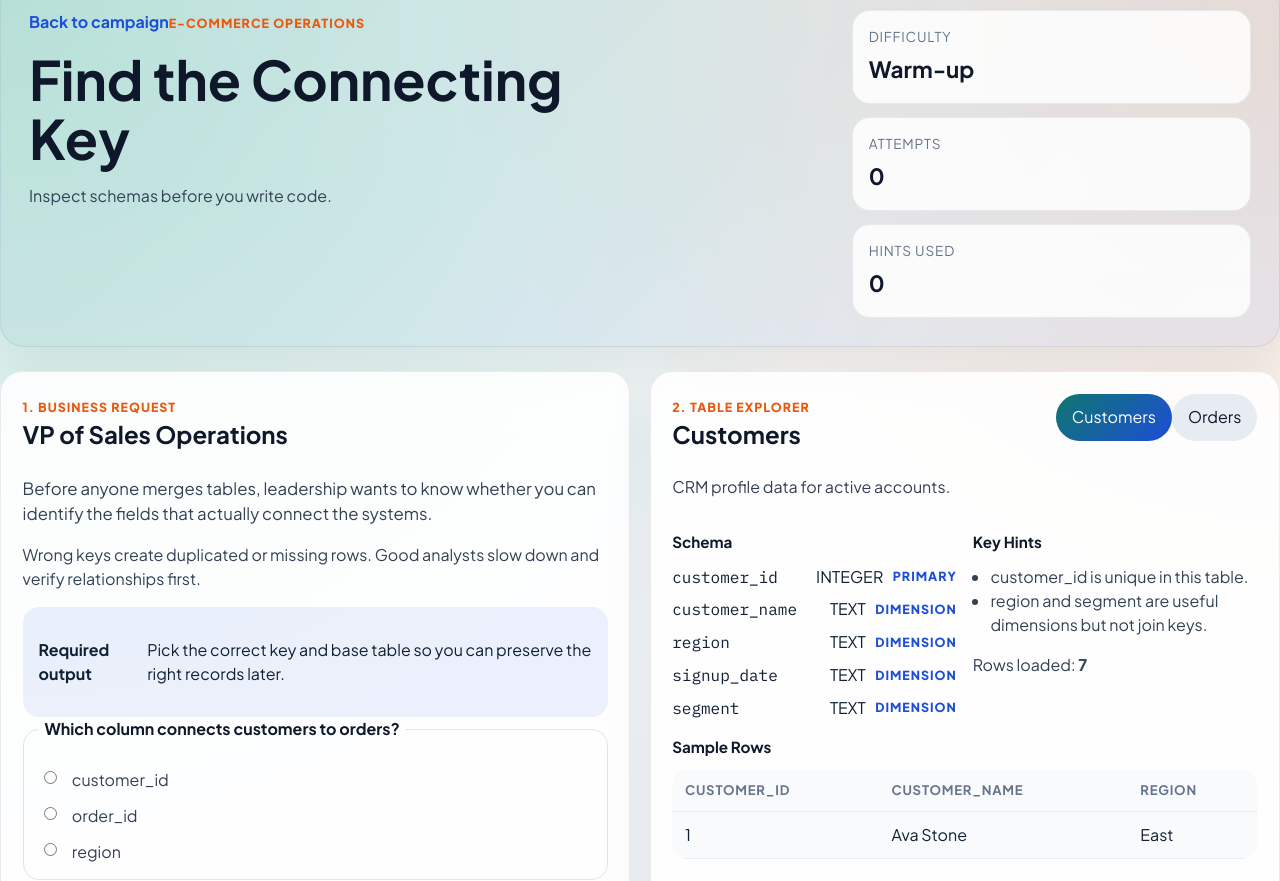
Test case: MissionPage › grades a no-code mission inside the analyst workspace
The width and height of the screenshot is (1280, 881).
Click the radio button labelled "customer_id" at (50, 778), box left=44, top=771, right=57, bottom=784
(page scrolled)
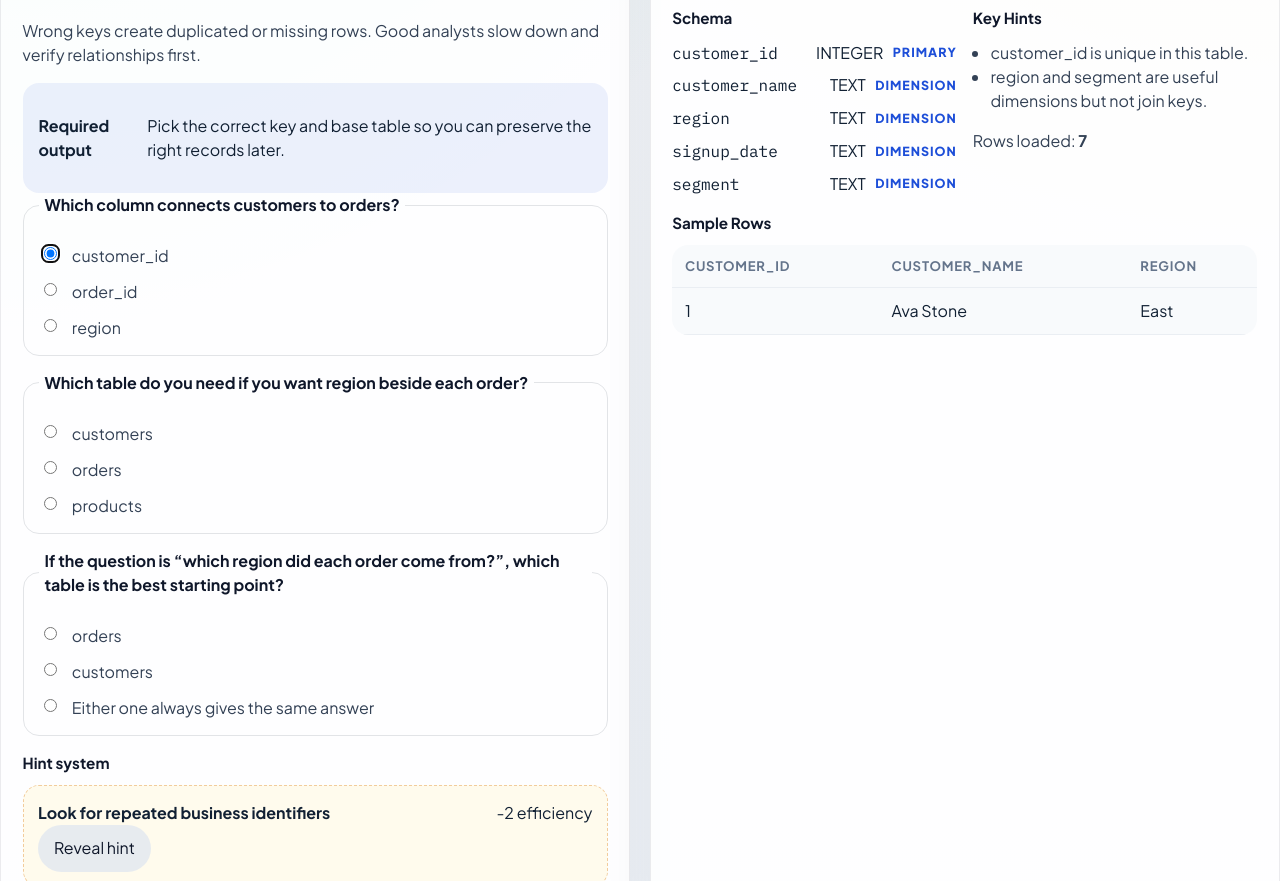
Click the 1st radio button labelled "customers" at (50, 432), box left=44, top=425, right=57, bottom=438
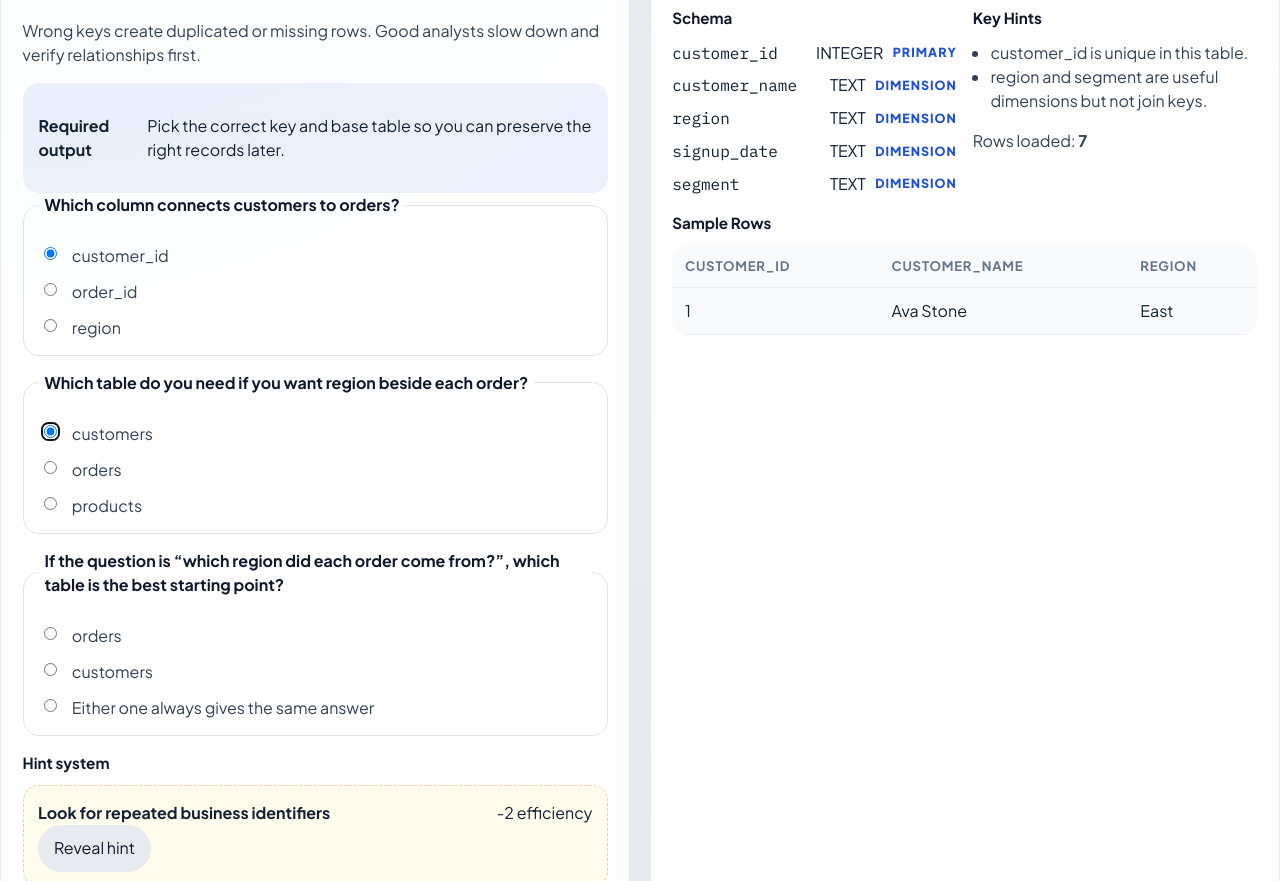
Click the 2nd radio button labelled "orders" at (50, 633), box left=44, top=627, right=57, bottom=640
(page scrolled)
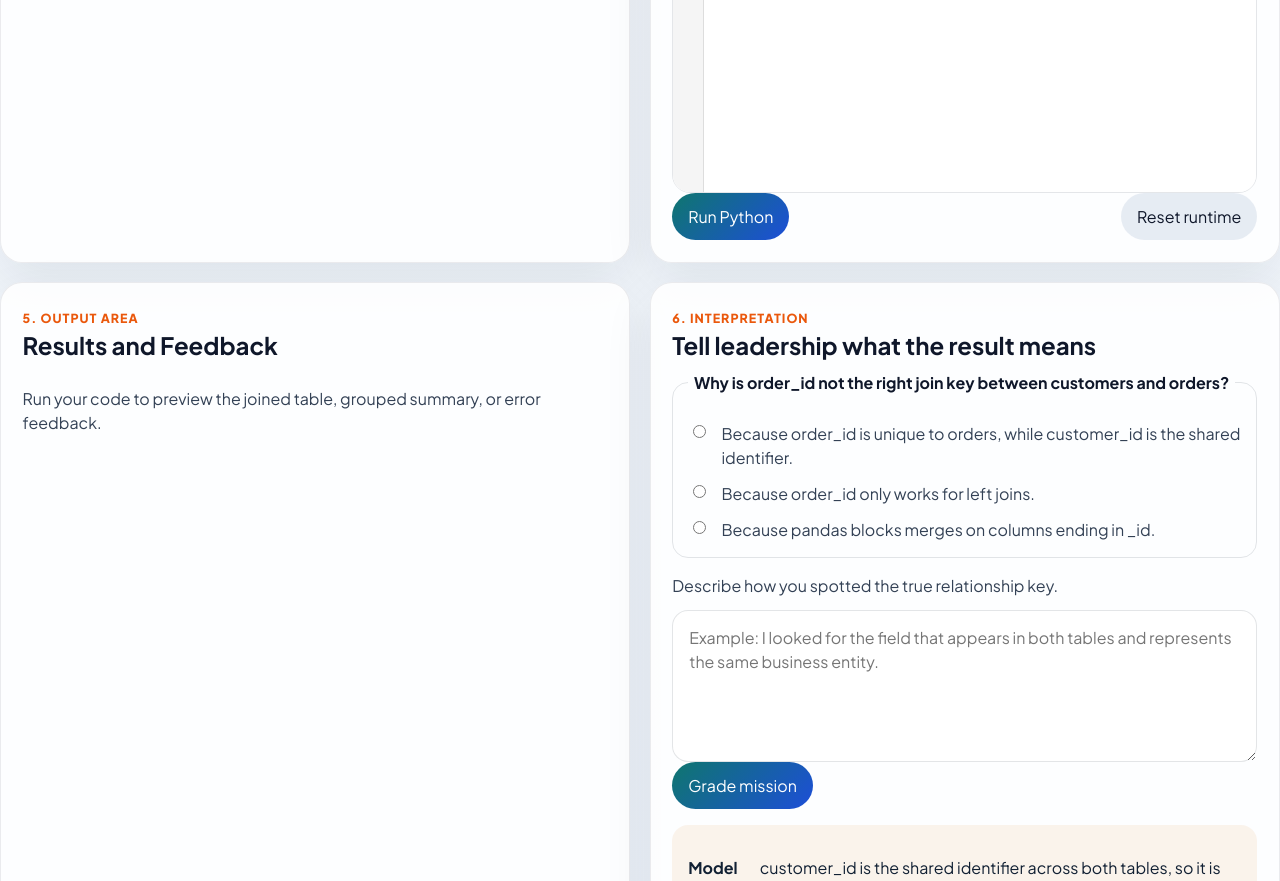
Click the radio button named "Because order_id is unique to orders, while customer_id is the shared identifier." at (700, 431), box left=693, top=425, right=706, bottom=438
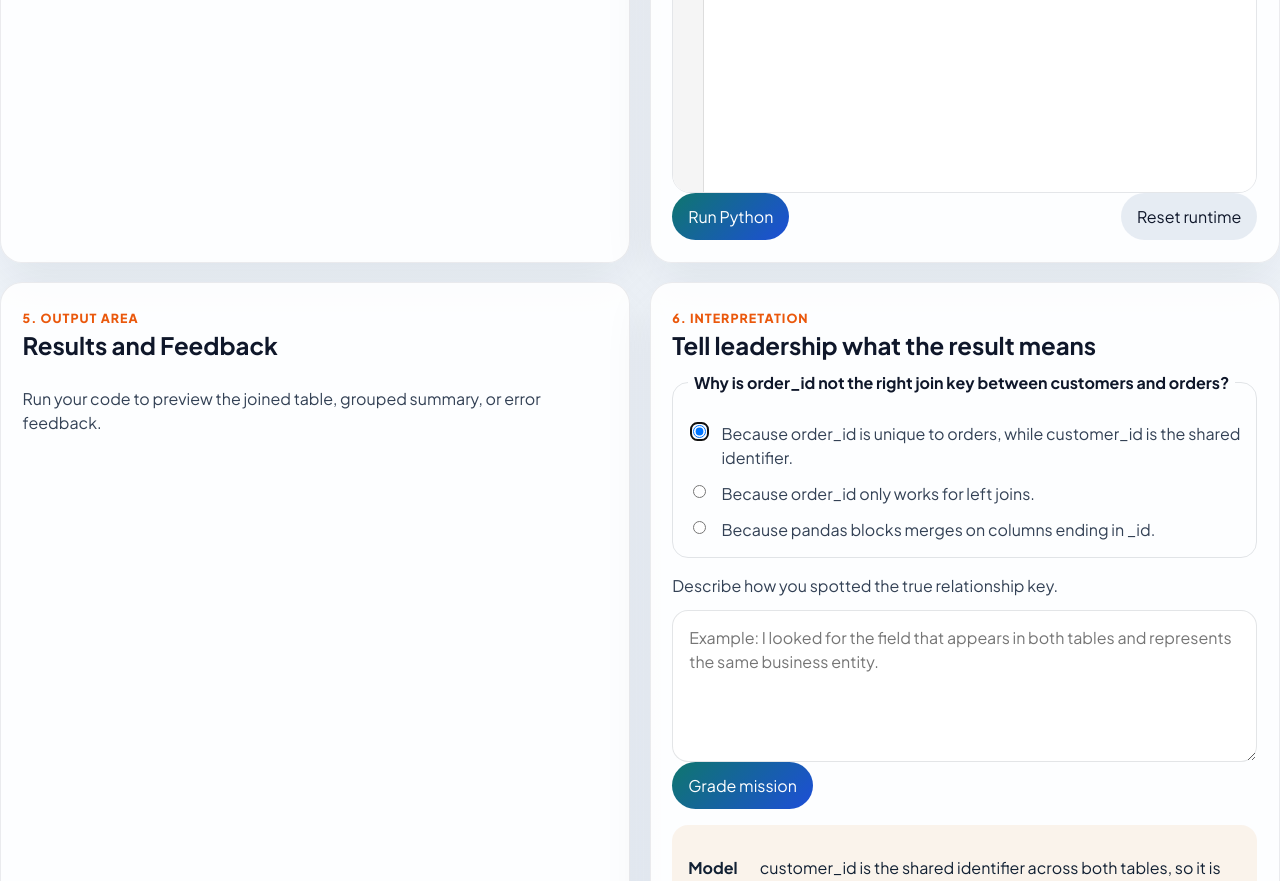
Type "I looked for customer_id because it is the shared key that appears in both tables." into the text box at (965, 686), box left=672, top=610, right=1257, bottom=762
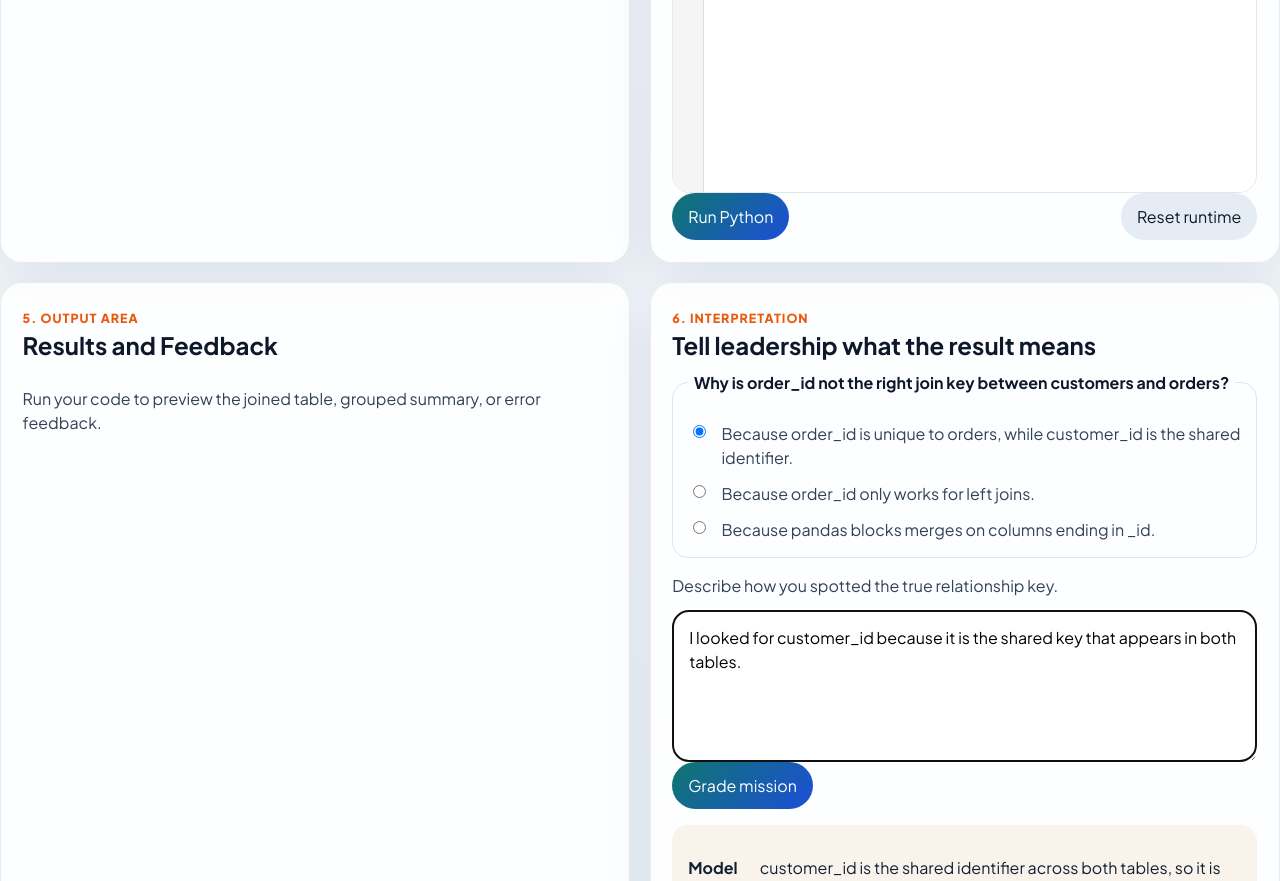
Click the button "Grade mission" at (743, 786), box left=672, top=762, right=813, bottom=809
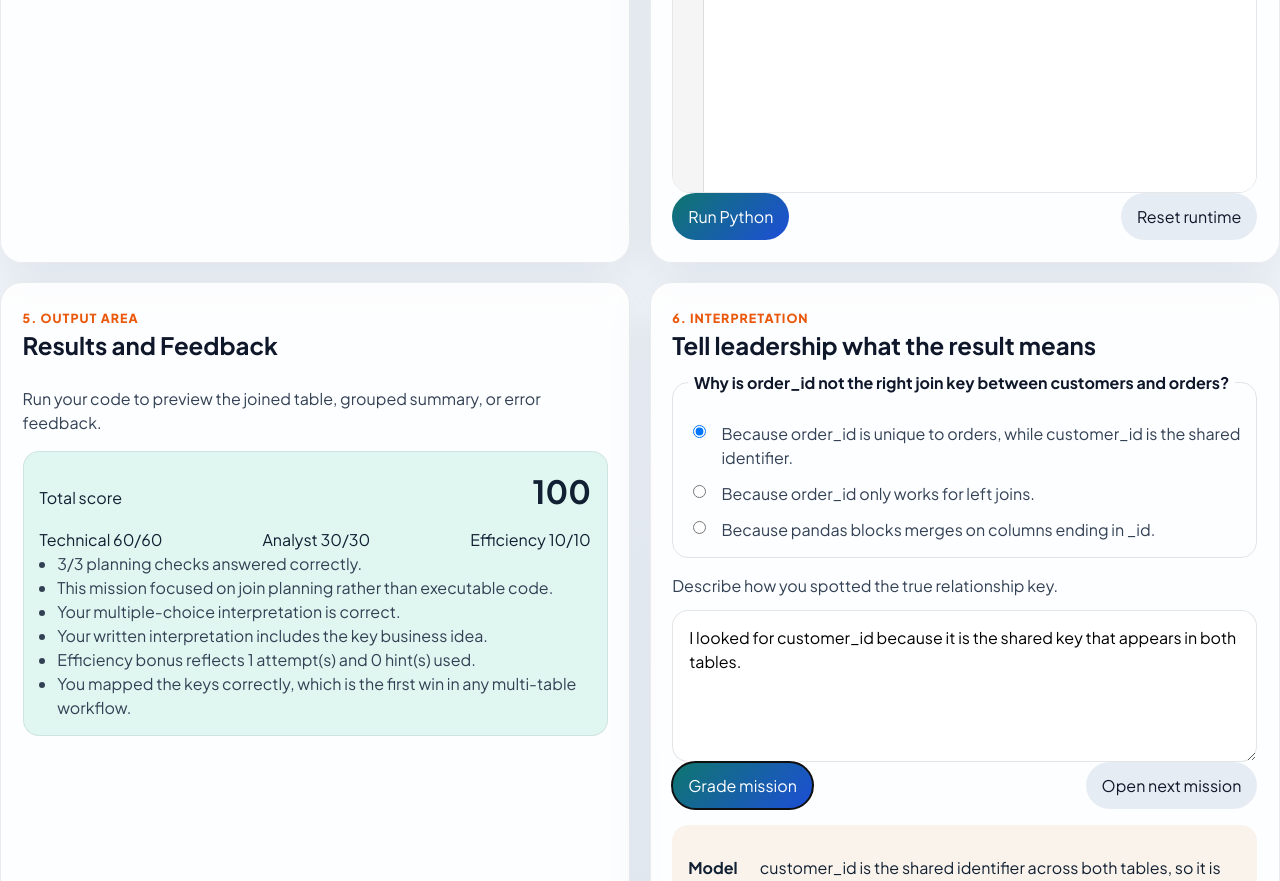
Now the text "Total score" is shown, box left=40, top=486, right=122, bottom=510
Now the 6th list item is shown, box left=57, top=672, right=576, bottom=718
